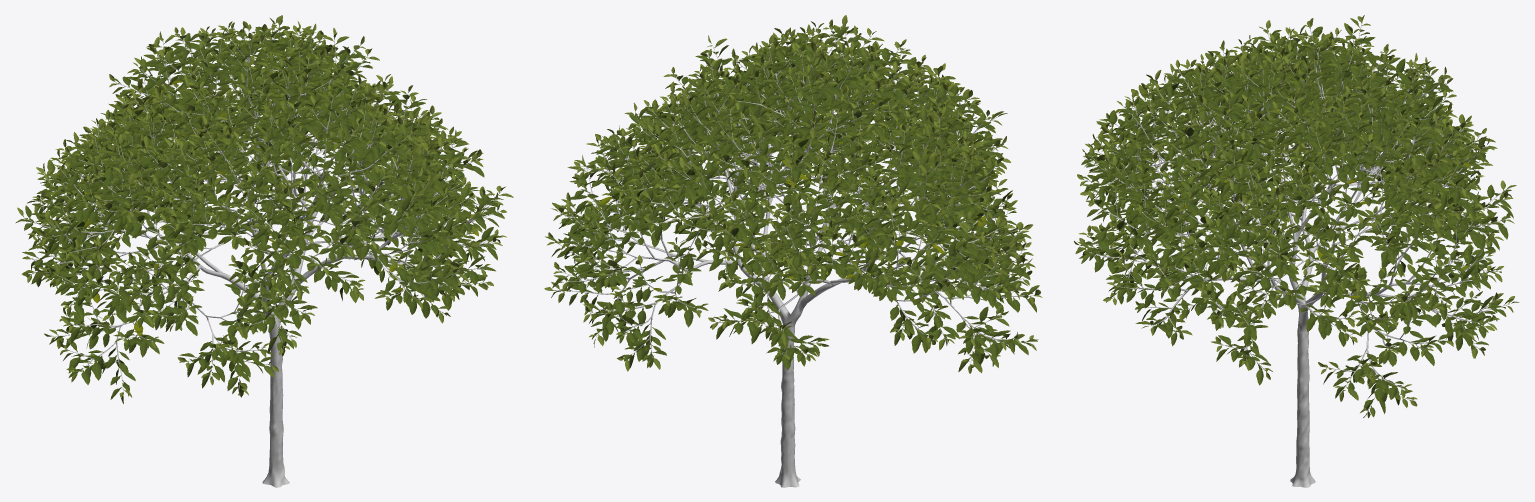
The model's file is Citrus_orange_35m_no_green.obj.
The picture shows the model from 3 angles, left to right: view 1: azimuth 30°, elevation 25°; view 2: azimuth 150°, elevation 25°; view 3: azimuth 270°, elevation 25°; orthographic projection. The views are drawn at different scales.
Visible parts, largest first — view 1: Citrus_aurant_leaf_01, Citrus_aurant_leaf_04, Citrus_aurant_leaf_02, Citrus_aurant_leaf_03, Citrus_aurantium_bark, Citrus_aurantium_twig, Citrus_aurant_leaf_01_y1; view 2: Citrus_aurant_leaf_01, Citrus_aurant_leaf_04, Citrus_aurant_leaf_02, Citrus_aurant_leaf_03, Citrus_aurantium_bark, Citrus_aurantium_twig, Citrus_aurant_leaf_01_y1; view 3: Citrus_aurant_leaf_01, Citrus_aurant_leaf_04, Citrus_aurant_leaf_02, Citrus_aurantium_bark, Citrus_aurant_leaf_03, Citrus_aurantium_twig.
Boxes of the visible parts, x1,y1,x2,y2 form: Citrus_aurant_leaf_01: (22,26,503,397); Citrus_aurant_leaf_04: (17,15,506,403); Citrus_aurant_leaf_02: (21,26,504,399); Citrus_aurant_leaf_03: (15,24,513,397); Citrus_aurantium_bark: (49,55,472,487); Citrus_aurantium_twig: (24,24,500,392); Citrus_aurant_leaf_01_y1: (84,80,478,336); Citrus_aurant_leaf_01: (551,26,1036,371); Citrus_aurant_leaf_04: (544,15,1042,373); Citrus_aurant_leaf_02: (545,25,1039,373); Citrus_aurant_leaf_03: (551,25,1036,369); Citrus_aurantium_bark: (586,56,1005,487); Citrus_aurantium_twig: (554,27,1033,363); Citrus_aurant_leaf_01_y1: (599,98,1002,291); Citrus_aurant_leaf_01: (1079,26,1513,413); Citrus_aurant_leaf_04: (1074,15,1519,417); Citrus_aurant_leaf_02: (1075,18,1512,417); Citrus_aurantium_bark: (1109,56,1480,487); Citrus_aurant_leaf_03: (1079,21,1513,412); Citrus_aurantium_twig: (1082,22,1509,411).
Bounding box in the file's own units: 3.54 × 3.44 × 3.19.
